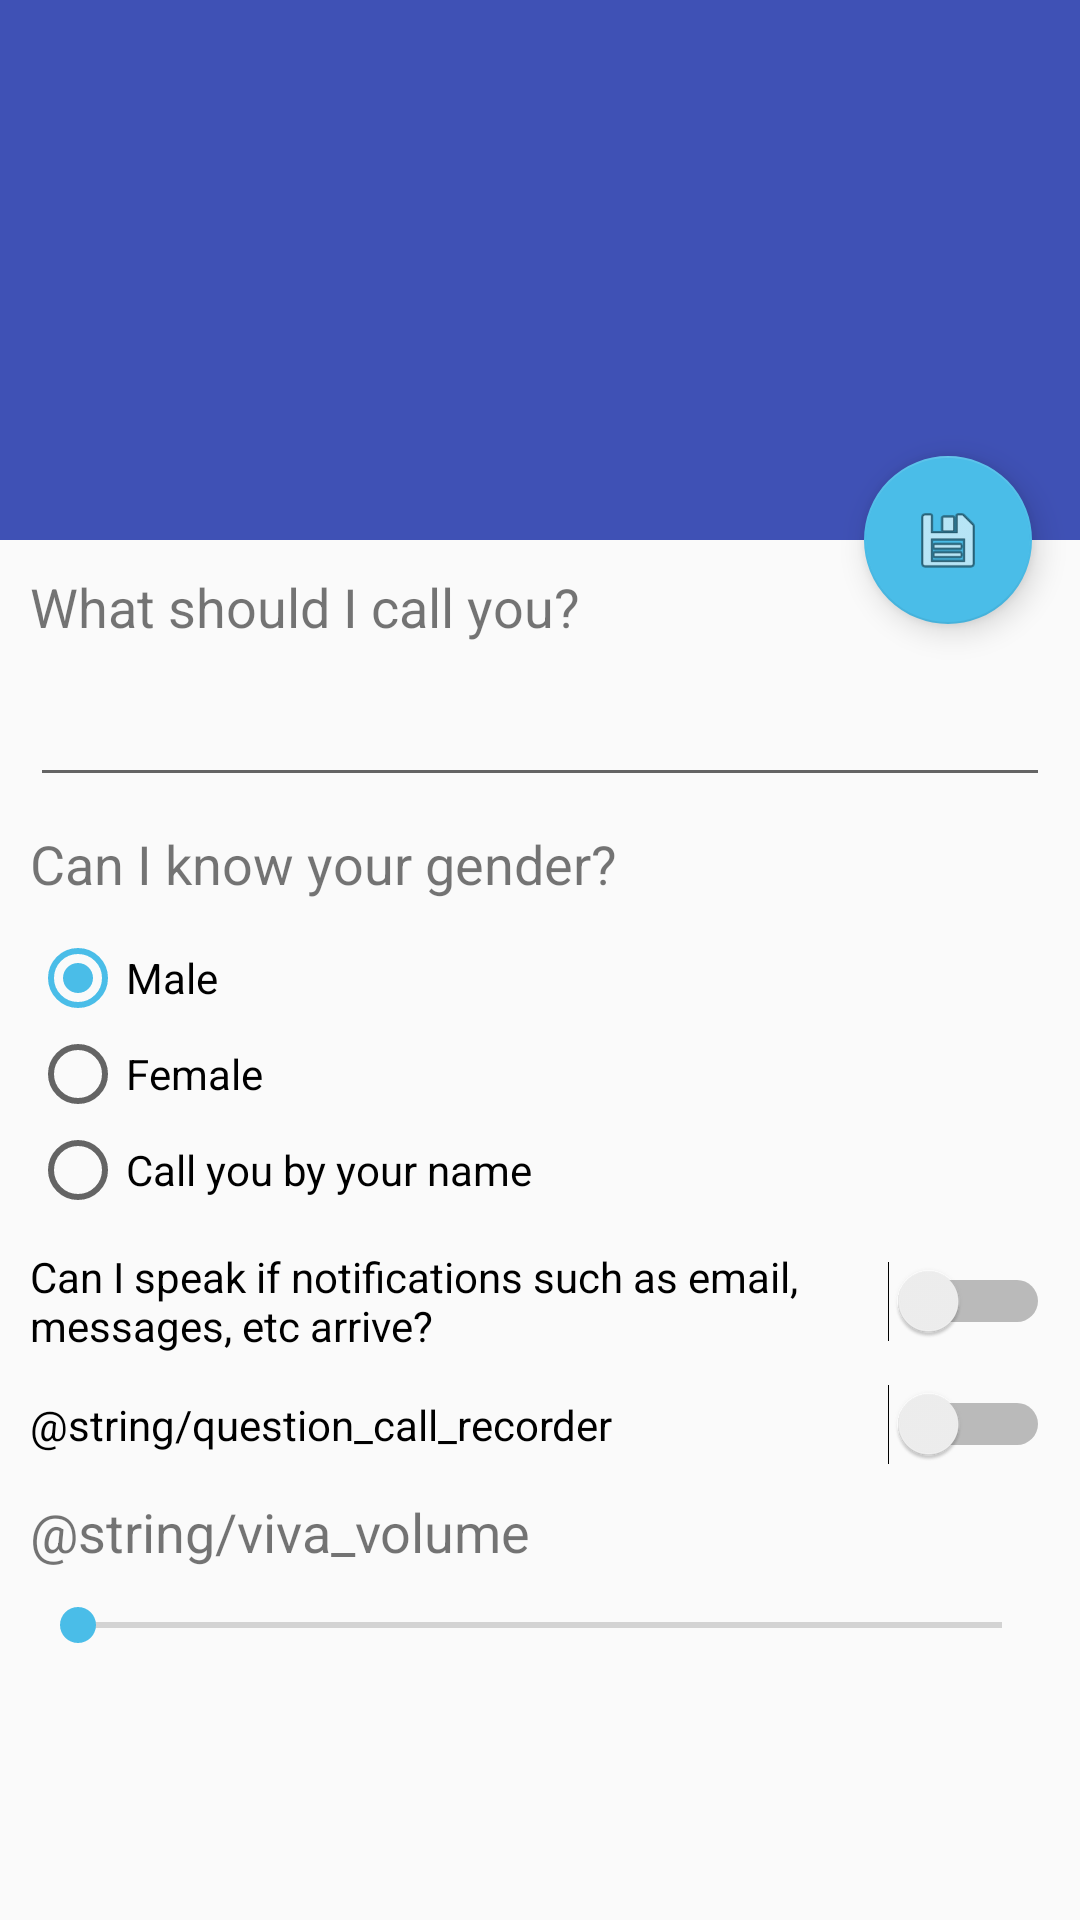

Where to tap for icons on this 1080w x 1920h app screen, as (x=x, y=y):
save: (x=948, y=540)
